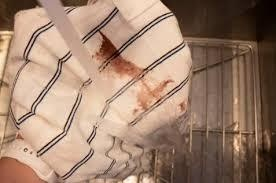wine: (89, 33, 142, 78), (129, 80, 178, 104), (174, 98, 189, 112)
